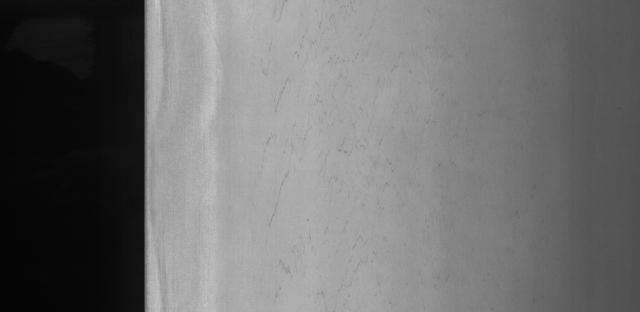silk_spot: (235, 0, 447, 301)
